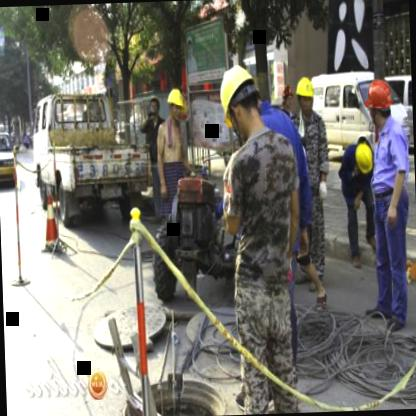helmet: (214, 58, 264, 142), (362, 74, 396, 132), (350, 140, 374, 184), (166, 86, 188, 128), (294, 75, 316, 115), (280, 78, 296, 110)
